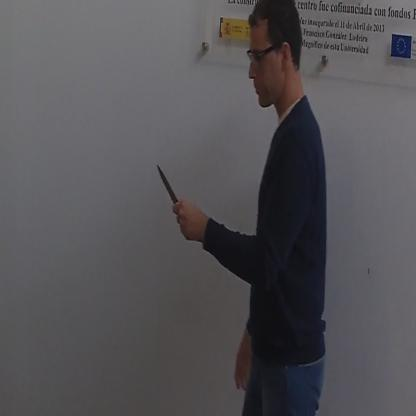knife: (152, 158, 192, 231)
